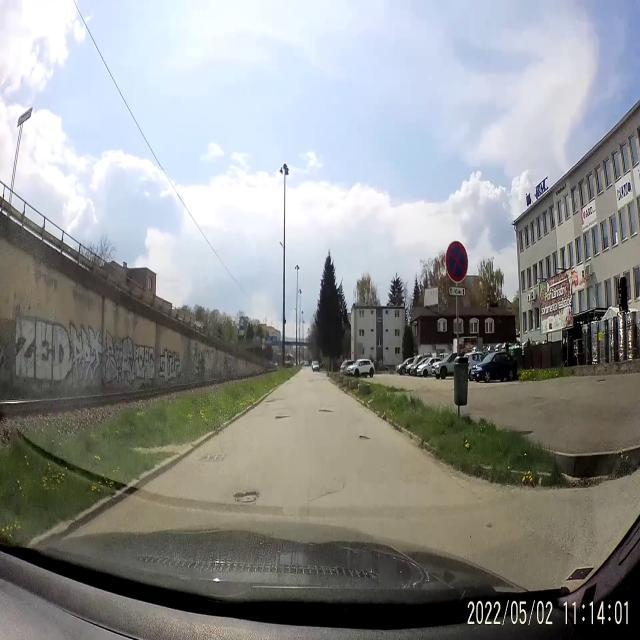Manhole: (200, 444, 226, 469), (233, 487, 260, 507)
Pothole: (316, 403, 336, 418), (264, 393, 286, 406), (358, 428, 374, 444), (275, 411, 290, 427)
